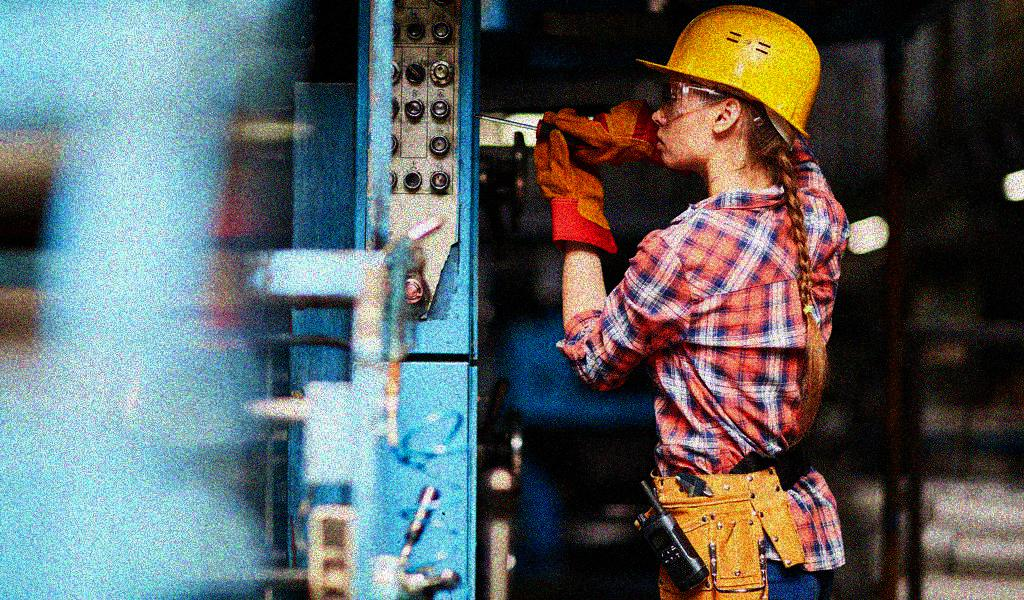helmet: (635, 6, 824, 171)
